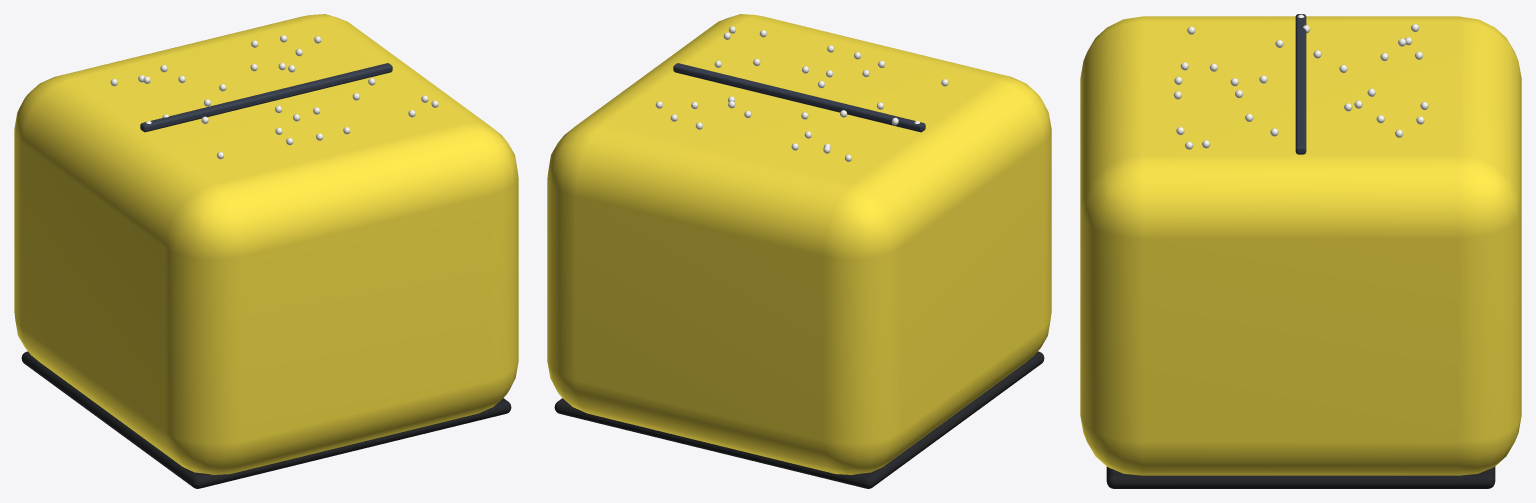
Rendered from Schaumstoffblock_Wuerfel_Gelb_3D.glb.
3 renders of one model, left to right at view 1: azimuth 30°, elevation 25°; view 2: azimuth 150°, elevation 25°; view 3: azimuth 270°, elevation 25°, orthographic. The views are drawn at different scales.
Parts seen in each view (by area): view 1: yellow individual cube small foam block, yellow individual cube small foam block black grip underside, yellow individual cube small foam block stitched top center ; view 2: yellow individual cube small foam block, yellow individual cube small foam block black grip underside, yellow individual cube small foam block stitched top center ; view 3: yellow individual cube small foam block, yellow individual cube small foam block black grip underside, yellow individual cube small foam block stitched top center .
Part boxes in pixels (left/top/right/bottom): yellow individual cube small foam block: left=14, top=14, right=518, bottom=474; yellow individual cube small foam block black grip underside: left=21, top=351, right=511, bottom=488; yellow individual cube small foam block stitched top center : left=140, top=63, right=392, bottom=132; yellow individual cube small foam block: left=547, top=14, right=1051, bottom=474; yellow individual cube small foam block black grip underside: left=554, top=351, right=1044, bottom=488; yellow individual cube small foam block stitched top center : left=673, top=63, right=925, bottom=132; yellow individual cube small foam block: left=1080, top=16, right=1521, bottom=475; yellow individual cube small foam block black grip underside: left=1106, top=467, right=1495, bottom=488; yellow individual cube small foam block stitched top center : left=1295, top=14, right=1306, bottom=154.
Size of the model in its own units: 0.58 by 0.4745 by 0.58.
